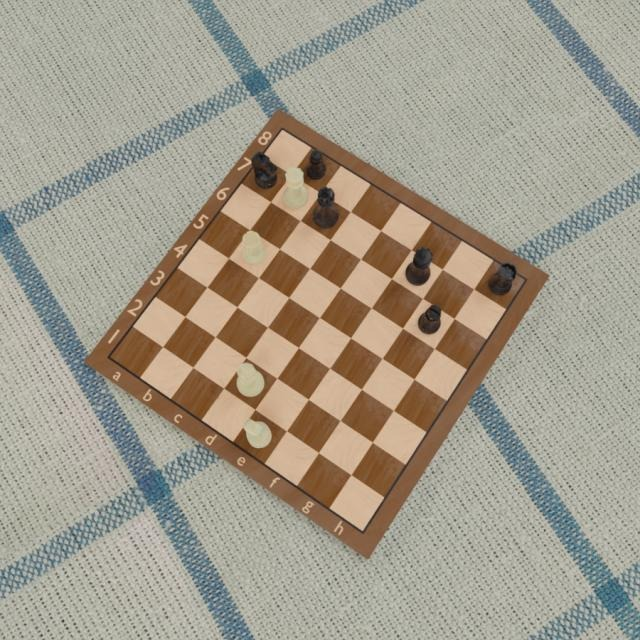black-bishop: (417, 304, 443, 336)
black-king: (312, 186, 340, 229)
black-knight: (251, 151, 279, 189)
black-pawn: (306, 148, 326, 181)
black-queen: (405, 246, 435, 287)
black-rook: (487, 263, 516, 297), (241, 228, 266, 267)
white-king: (236, 360, 266, 398)
white-knight: (242, 416, 272, 451)
white-queen: (282, 165, 310, 210)
